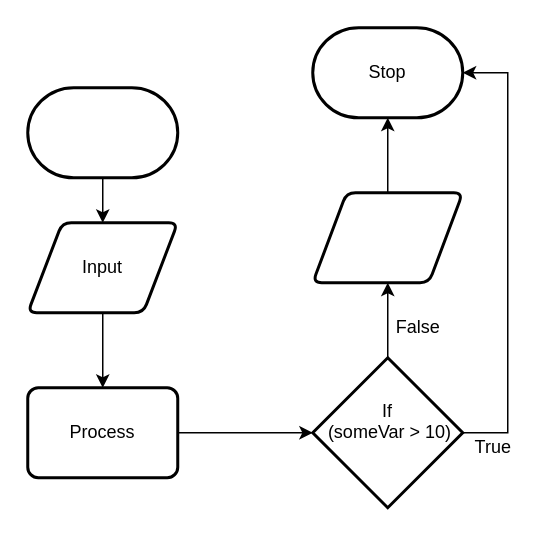
Some shapes in this 555 by 534 pixel diagram are drawn without their labels. The box of each missing label's shape, as (x1, y1, x2, y2) in pixels:
Output: (310, 190, 464, 284)
Start: (26, 86, 178, 178)
